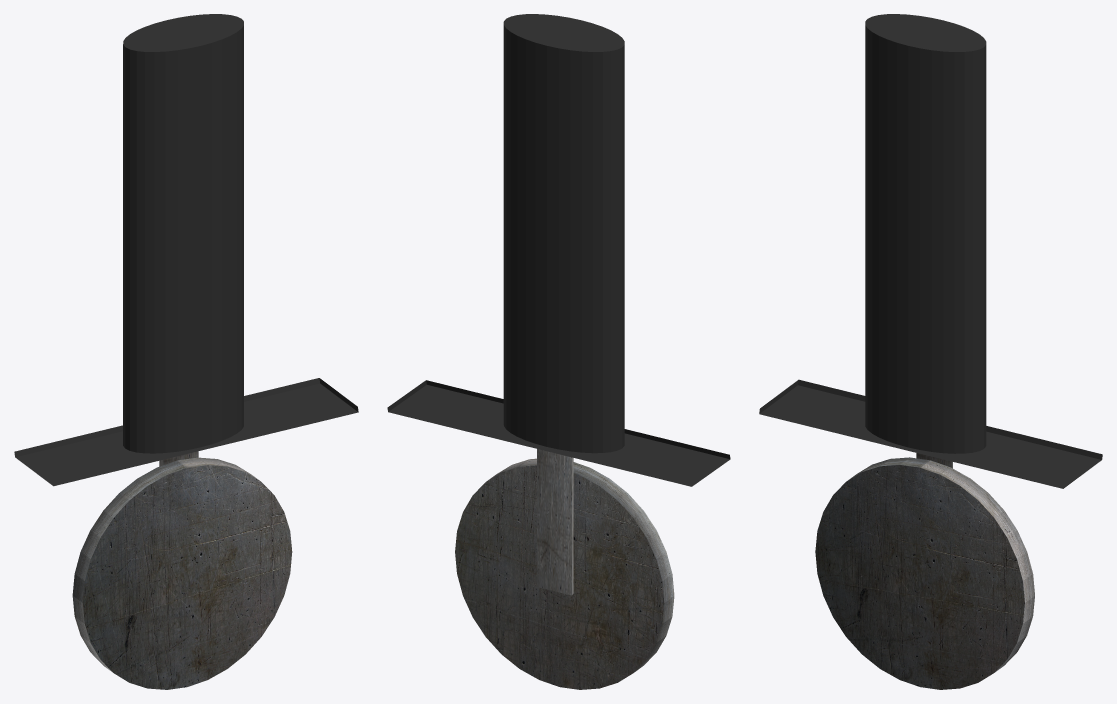
The model's file is pizzacutter.glb.
The picture shows the model from 3 angles, left to right: view 1: azimuth 30°, elevation 25°; view 2: azimuth 150°, elevation 25°; view 3: azimuth 330°, elevation 25°; orthographic projection.
Visible parts, largest first — view 1: Cube, Cylinder, Cube.002; view 2: Cube, Cylinder, Cube.002, Cube.001; view 3: Cube, Cylinder, Cube.002.
Boxes of the visible parts, <box> form: Cube: <box>123,14,243,453</box>; Cylinder: <box>72,457,292,689</box>; Cube.002: <box>14,378,358,486</box>; Cube: <box>503,14,624,453</box>; Cylinder: <box>455,458,674,689</box>; Cube.002: <box>387,380,730,486</box>; Cube.001: <box>537,449,573,595</box>; Cube: <box>865,14,986,453</box>; Cylinder: <box>815,457,1034,689</box>; Cube.002: <box>759,379,1102,488</box>.
Bounding box in the file's own units: 1.87 × 3.82 × 0.4248.
Materials: 4 (2 with a texture image).
